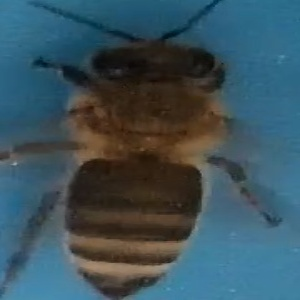bee: (7, 34, 288, 297)
